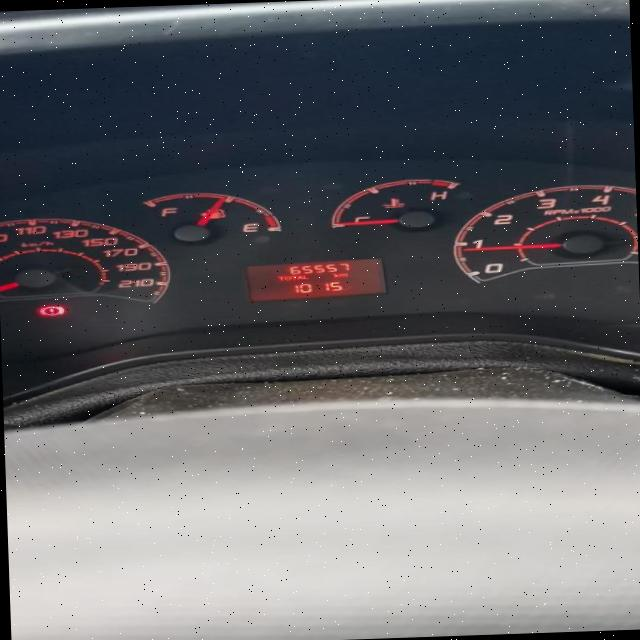odometer: (240, 254, 394, 304)
